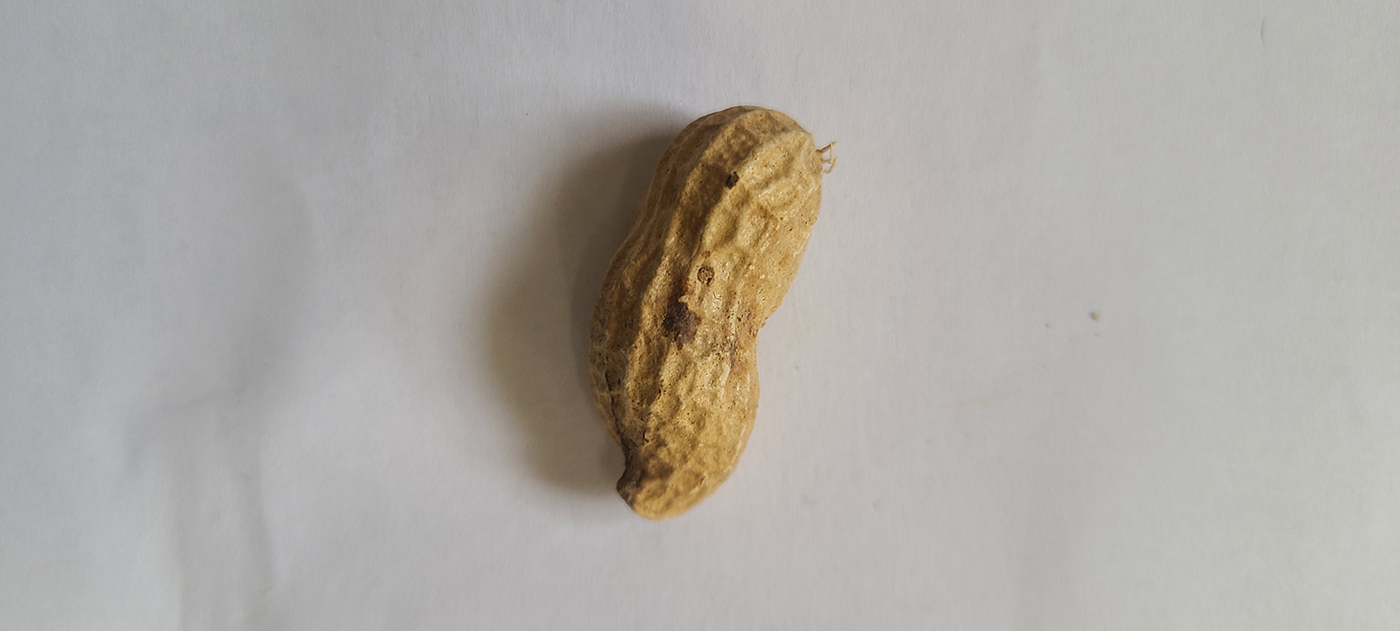h: (582, 103, 824, 518)
